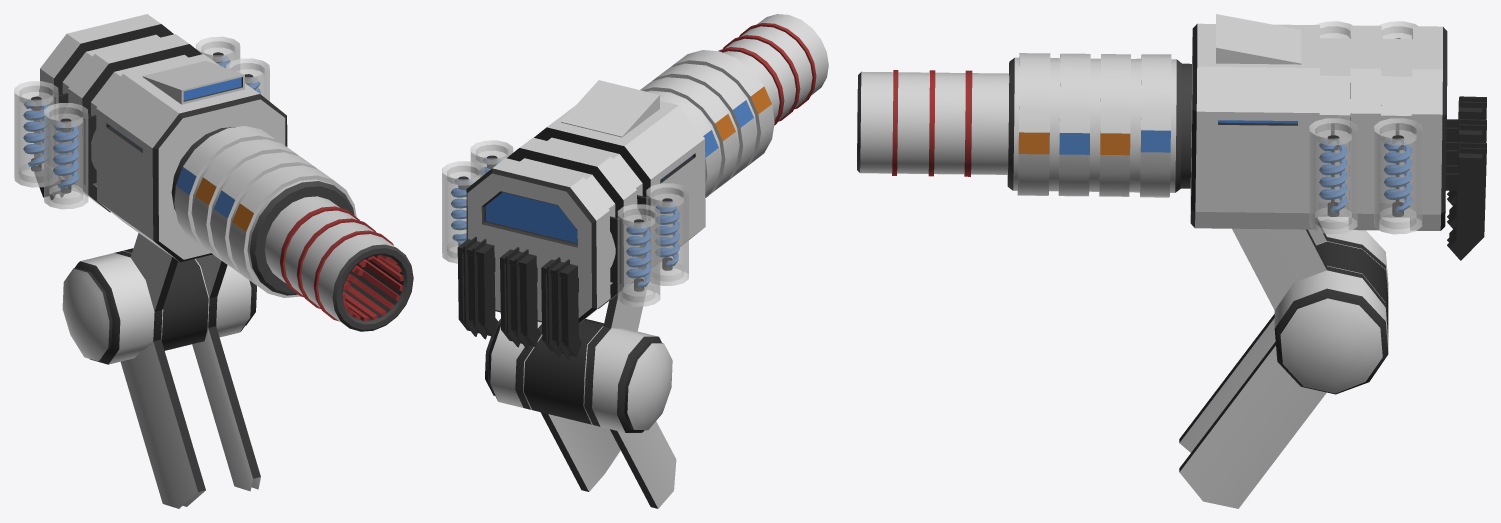
Rendered from tower_eon_cannon_upgrade2_asset.fbx.
3 renders of one model, left to right at view 1: azimuth 30°, elevation 25°; view 2: azimuth 150°, elevation 25°; view 3: azimuth 270°, elevation 25°, orthographic. The views are drawn at different scales.
Parts seen in each view (by area): view 1: tower_top, tower_bottom; view 2: tower_top, tower_bottom; view 3: tower_top, tower_bottom.
Part boxes in pixels (left/top/right/bottom): tower_top: left=14, top=14, right=413, bottom=364; tower_bottom: left=120, top=326, right=260, bottom=508; tower_top: left=442, top=14, right=828, bottom=432; tower_bottom: left=540, top=412, right=676, bottom=508; tower_top: left=857, top=14, right=1486, bottom=394; tower_bottom: left=1179, top=314, right=1326, bottom=508.
Size of the model in its own units: 11.73 by 21.33 by 26.64.
